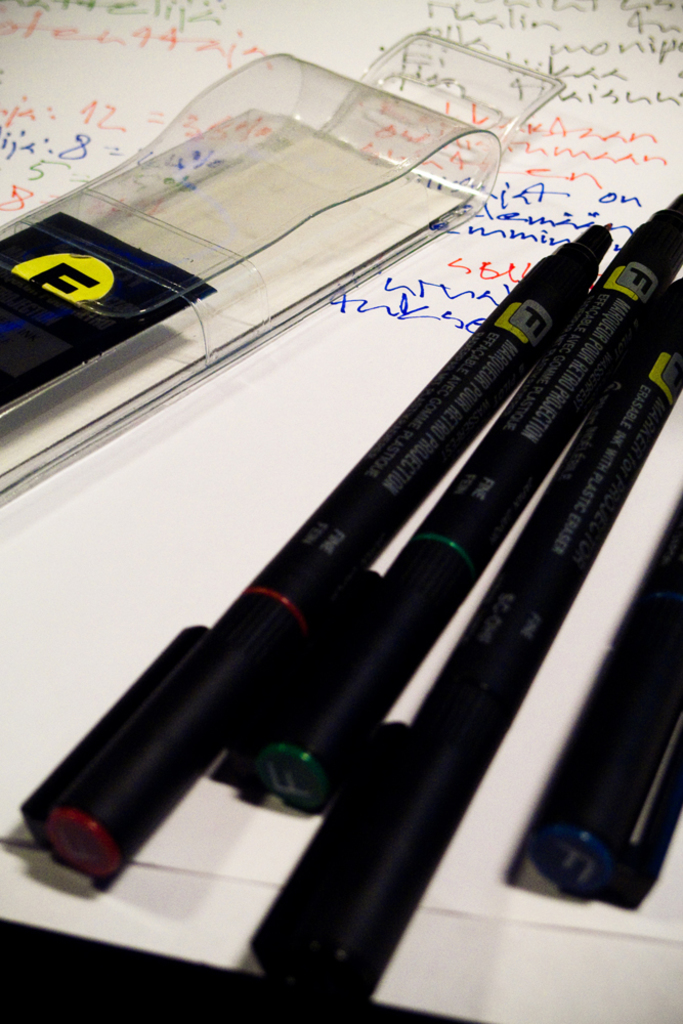Pen: (12, 225, 617, 898), (239, 280, 681, 1008), (271, 193, 681, 809), (522, 503, 677, 909)
